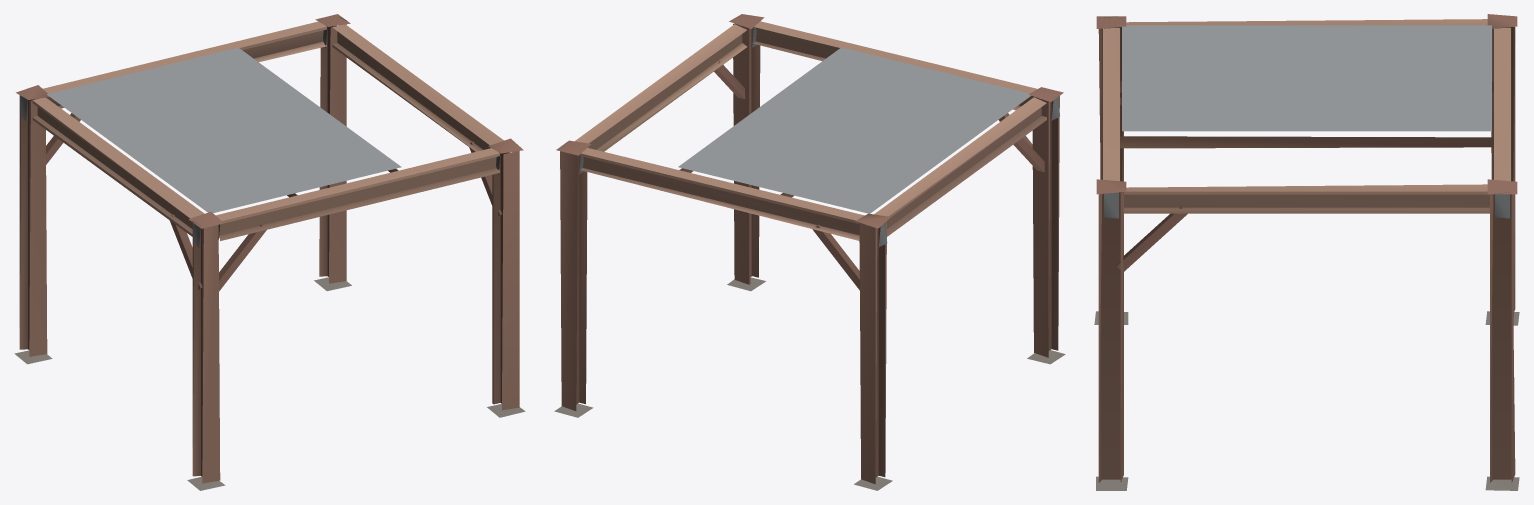
The model's file is framebay.lod1.glb.
The picture shows the model from 3 angles, left to right: view 1: azimuth 30°, elevation 25°; view 2: azimuth 150°, elevation 25°; view 3: azimuth 270°, elevation 25°; orthographic projection. The views are drawn at different scales.
Bounding box in the file's own units: 4 × 3.1 × 4.
